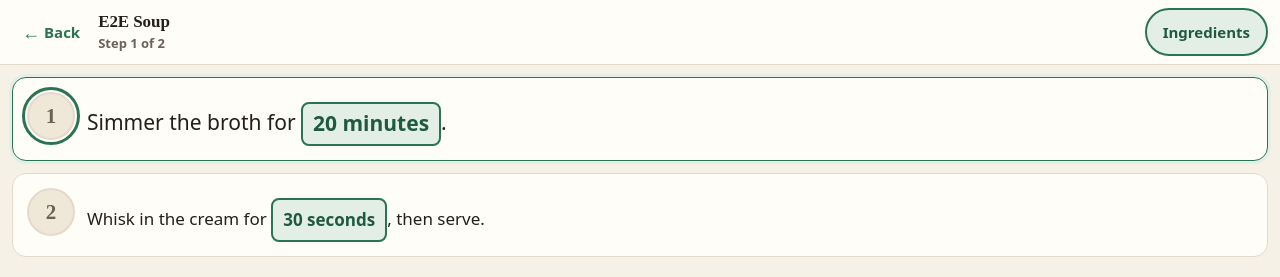
CookMode › marks the first unchecked step as the current one, and moves it on
Expected: the text "Step 1 of 2" is shown, [98, 34, 165, 52]
Click the checkbox labelled "1".
click(51, 116)  # box [27, 92, 75, 140]
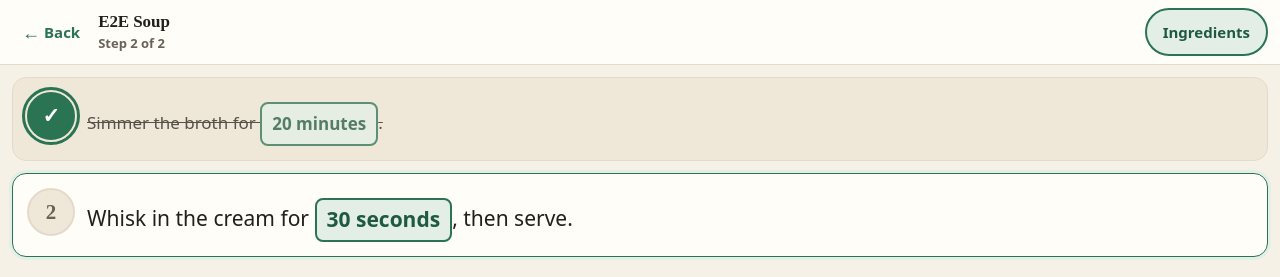
Result: the text "Step 2 of 2" is shown at [98, 34, 165, 52]
